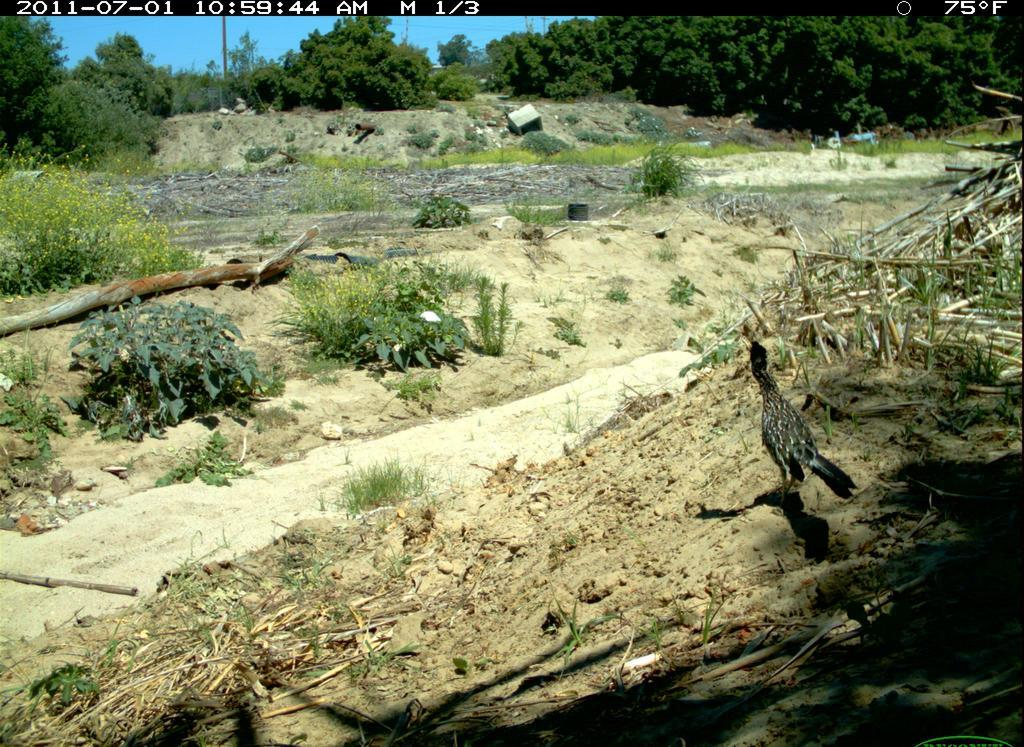bird: (740, 324, 866, 520)
